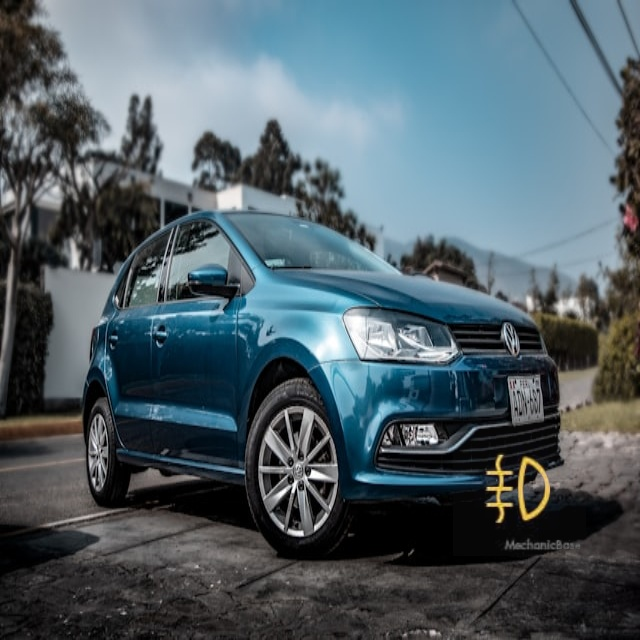symbol: (453, 423, 586, 556)
